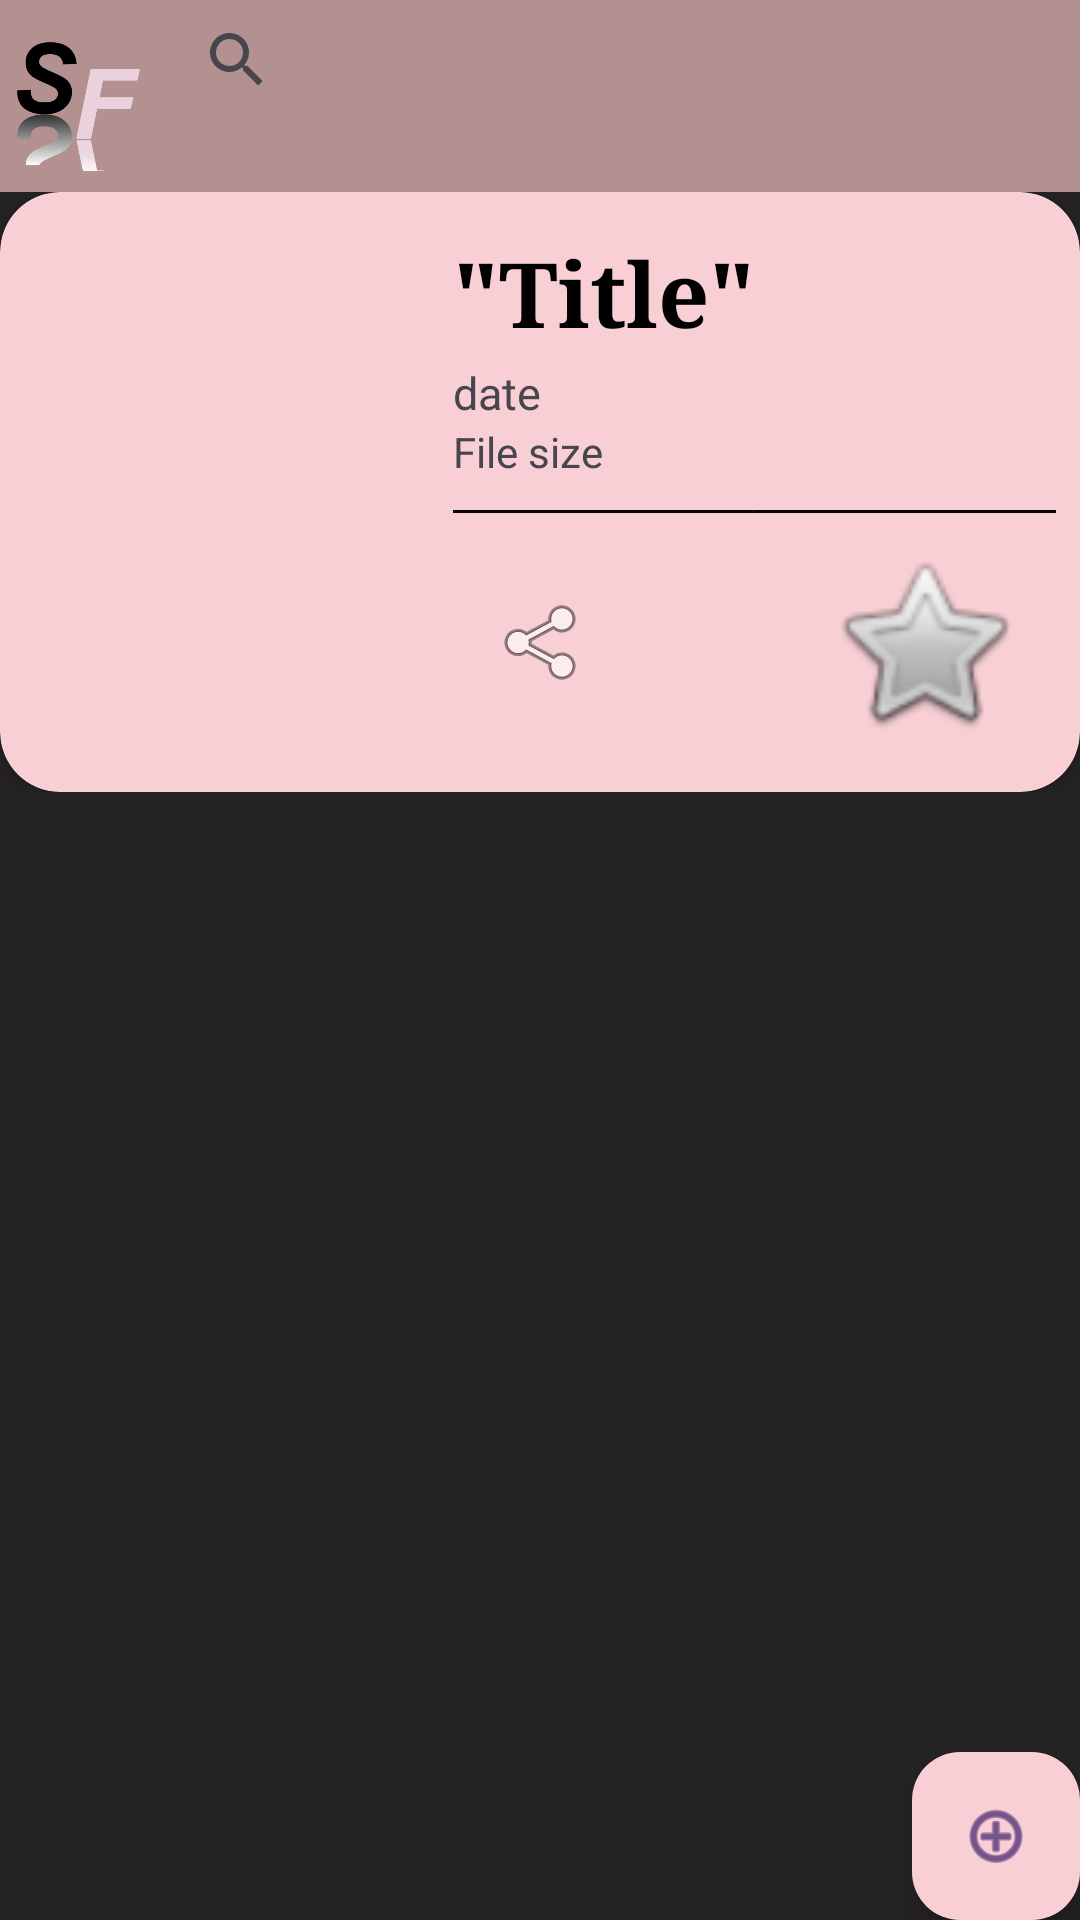

Icon click points for this 1080 × 1920 phone screenshot, format (x=x, y=y):
add: (x=996, y=1836)
share: (x=540, y=642)
star off: (x=925, y=644)
